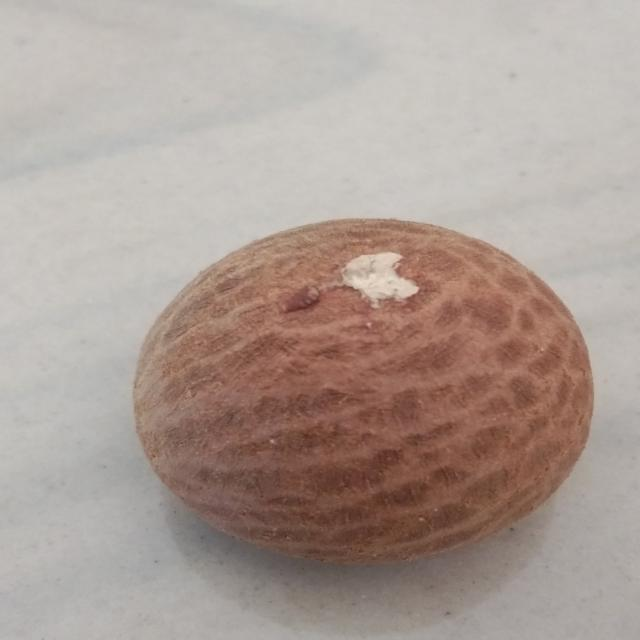good: (120, 207, 624, 571)
